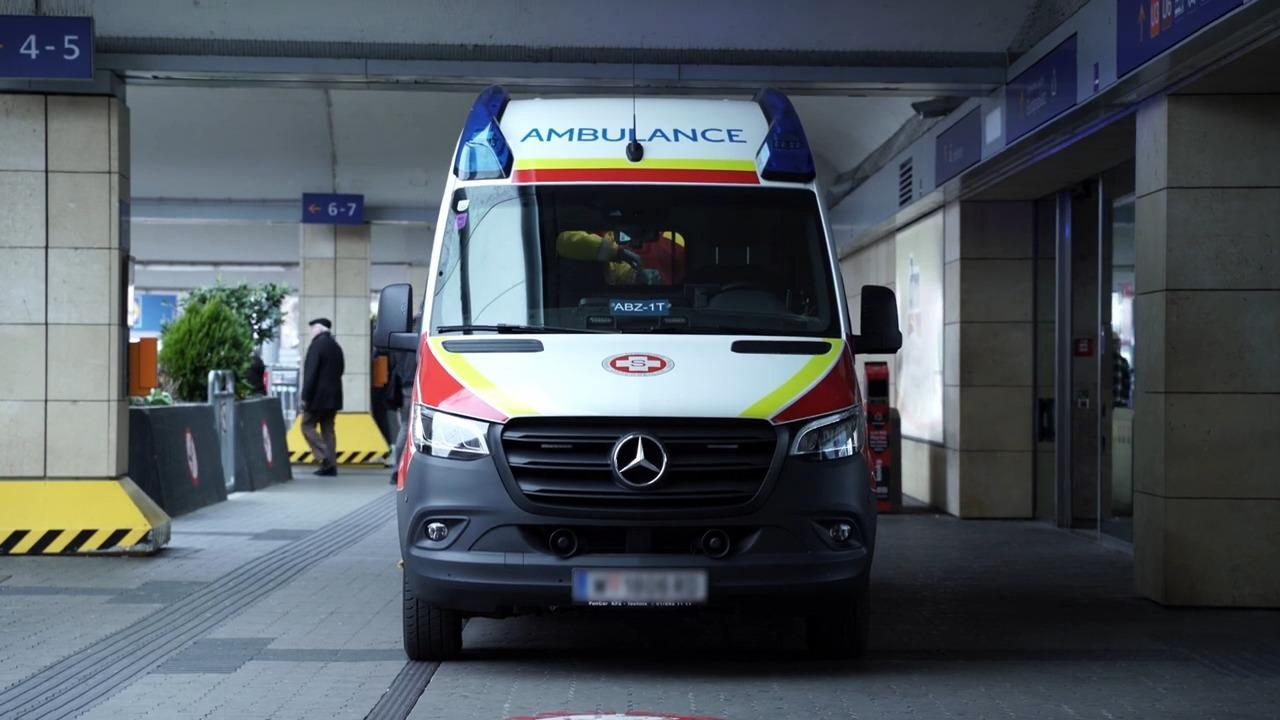car: (386, 82, 903, 663)
